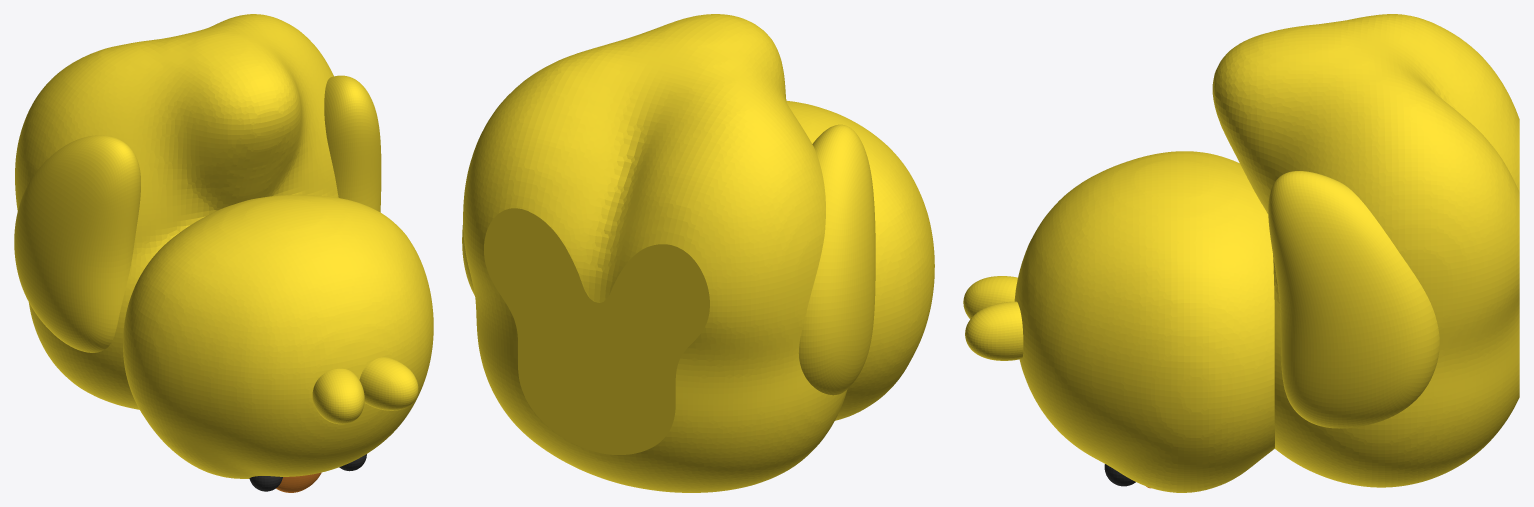
File: chick.glb
3 views of the same model, side by side, from view 1: azimuth 30°, elevation 25°; view 2: azimuth 150°, elevation 25°; view 3: azimuth 270°, elevation 25° (orthographic). The views are drawn at different scales.
Visible parts, largest first — view 1: Cube.652, Cube.650, Cube.649, Cube.651, Sphere.039, Plane.152; view 2: Cube.650, Cube.649, Cube.652; view 3: Cube.650, Cube.652, Cube.649, Cube.651.
Part boxes in pixels (left/top/right/bottom): Cube.652: left=123, top=194, right=433, bottom=478; Cube.650: left=15, top=14, right=338, bottom=409; Cube.649: left=14, top=75, right=381, bottom=352; Cube.651: left=312, top=357, right=418, bottom=424; Sphere.039: left=249, top=454, right=366, bottom=491; Plane.152: left=276, top=472, right=321, bottom=492; Cube.650: left=463, top=14, right=847, bottom=492; Cube.649: left=462, top=124, right=875, bottom=395; Cube.652: left=786, top=100, right=934, bottom=420; Cube.650: left=1212, top=14, right=1519, bottom=487; Cube.652: left=1014, top=151, right=1274, bottom=492; Cube.649: left=1268, top=171, right=1439, bottom=428; Cube.651: left=963, top=276, right=1023, bottom=360.
Size of the model in its own units: 15.48 by 17.25 by 19.34.
